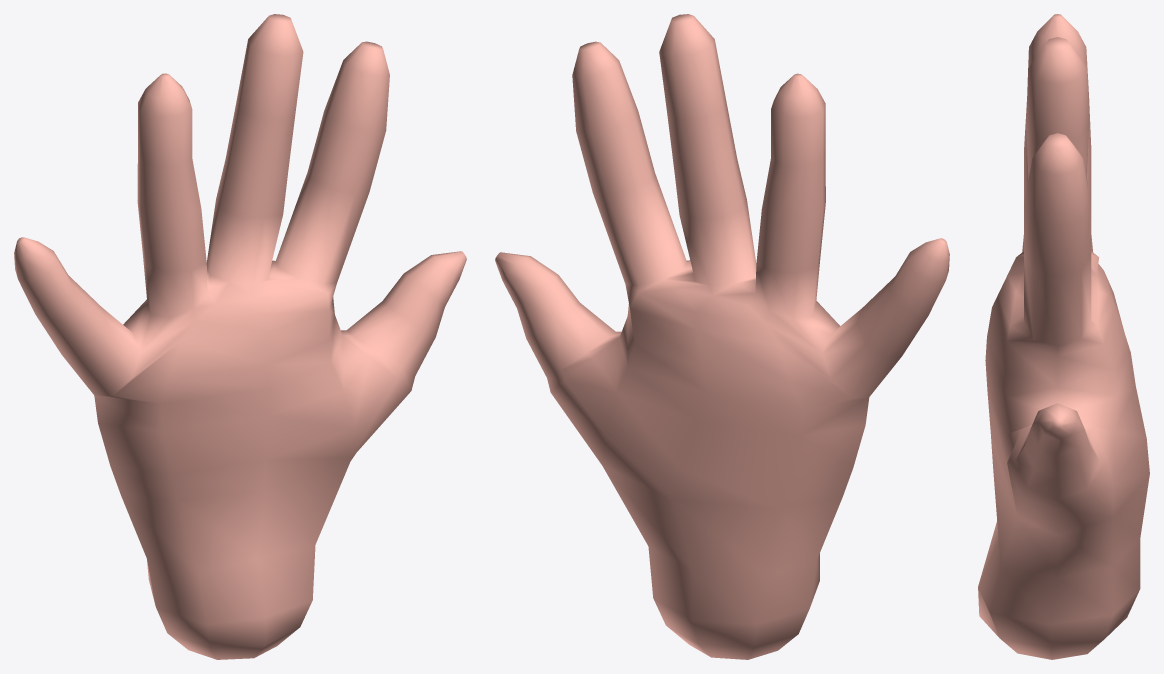
The model's file is ManoMDer.fbx.
The picture shows the model from 3 angles, left to right: view 1: azimuth 30°, elevation 25°; view 2: azimuth 150°, elevation 25°; view 3: azimuth 270°, elevation 25°; orthographic projection. The views are drawn at different scales.
Visible parts, largest first — view 1: Cylinder.007; view 2: Cylinder.007; view 3: Cylinder.007.
Boxes of the visible parts, x1,y1,x2,y2 form: Cylinder.007: (14, 14, 466, 659); Cylinder.007: (495, 14, 949, 659); Cylinder.007: (978, 14, 1149, 659).
Bounding box in the file's own units: 1.04 × 1.37 × 0.3362.
